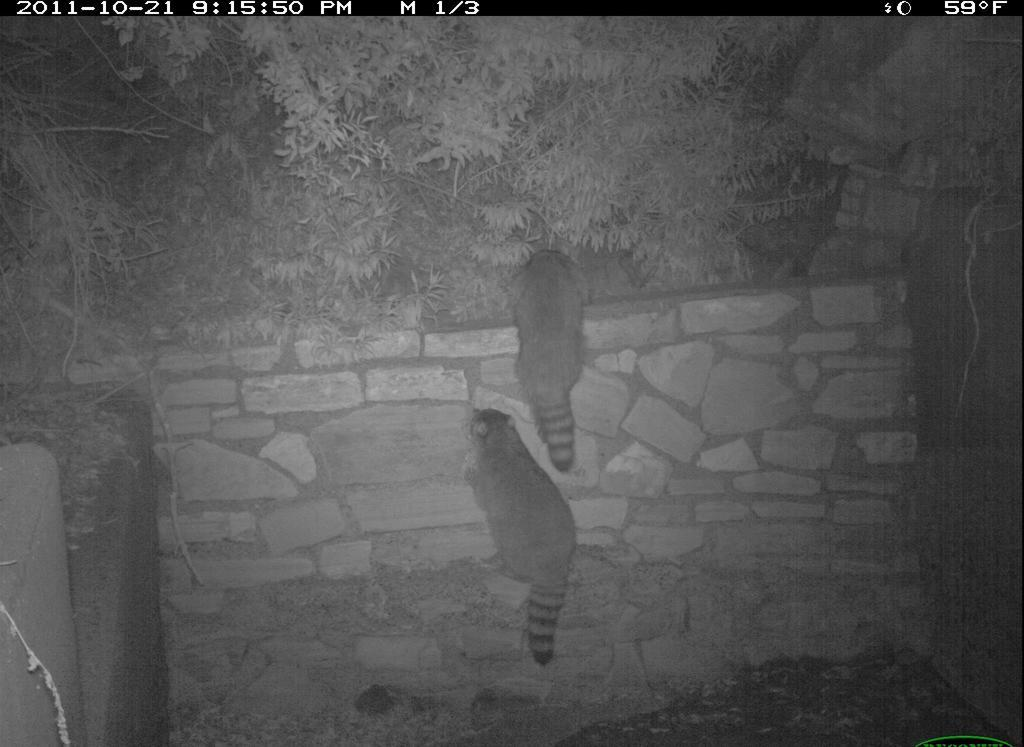raccoon: (452, 397, 584, 684), (496, 244, 623, 477)
